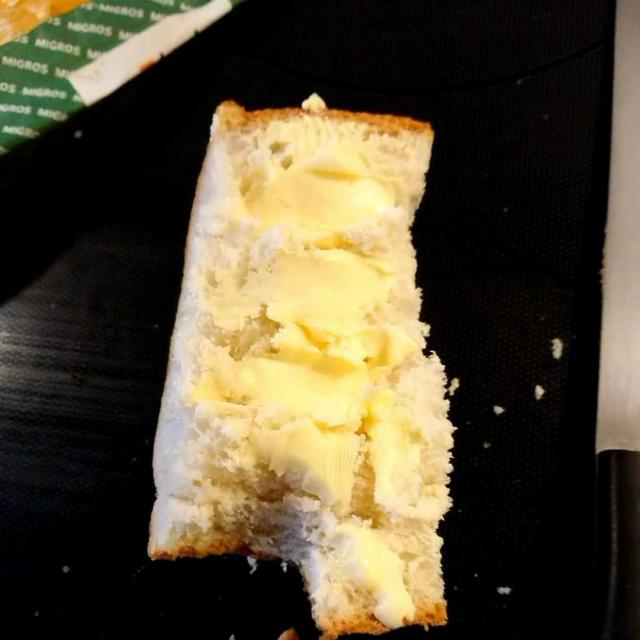bread-white: (154, 107, 446, 609)
butter: (222, 109, 430, 623)
